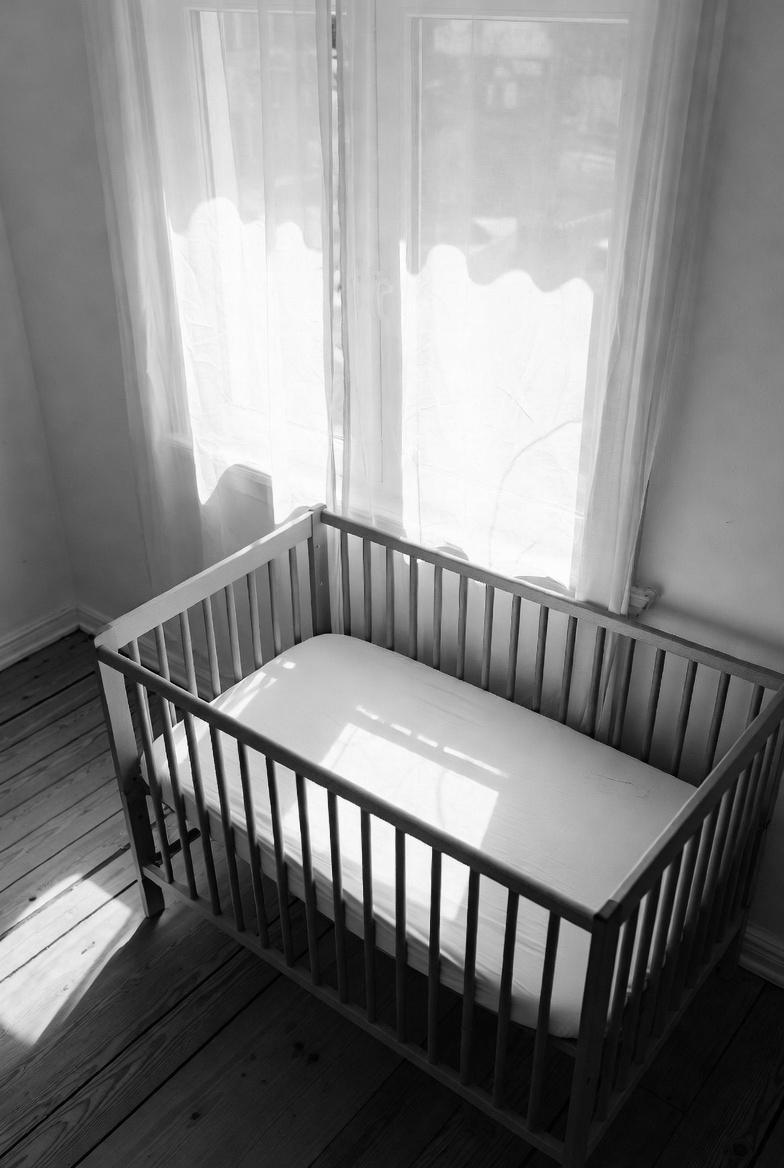crib: (70, 495, 784, 1165)
